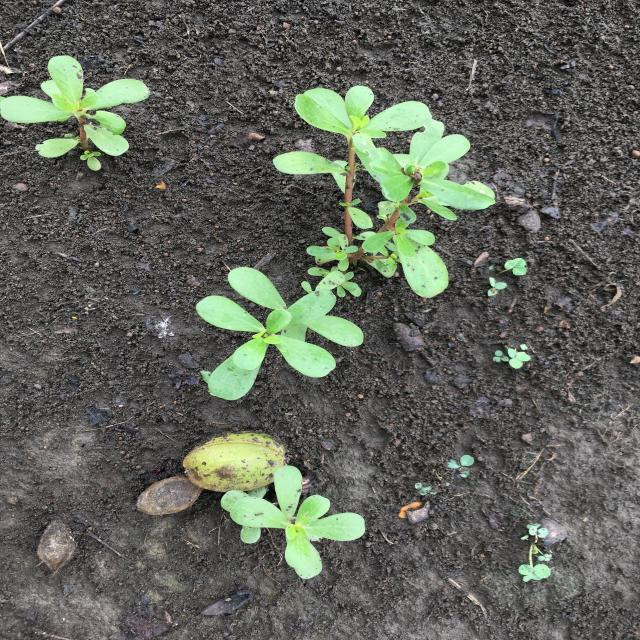Purslane: (196, 86, 496, 401), (0, 55, 149, 171), (220, 466, 366, 580)
